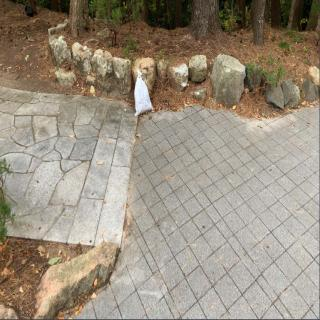Garbage: (132, 65, 154, 116)
